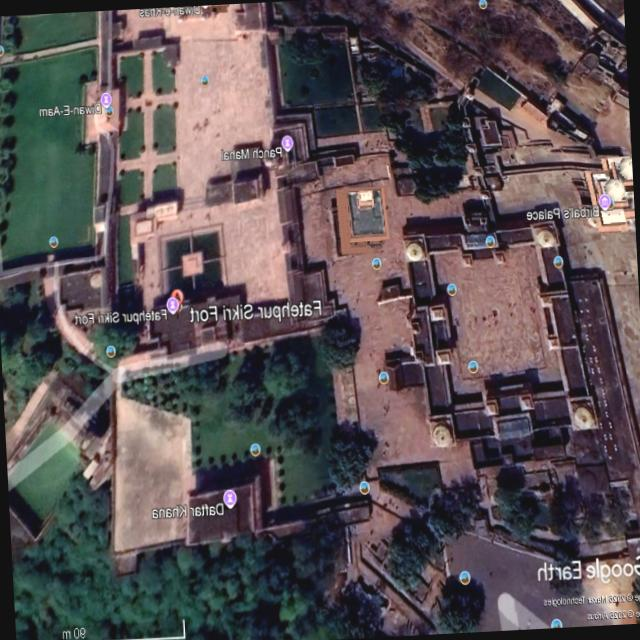objects-ruins-artifacts: (27, 250, 261, 620), (265, 51, 575, 316)
